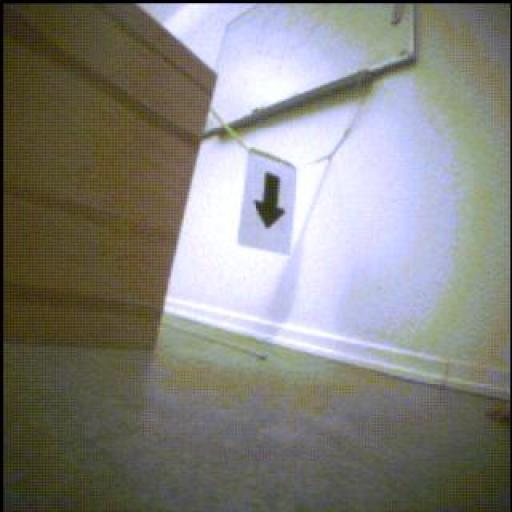arrow: (255, 174, 286, 230)
